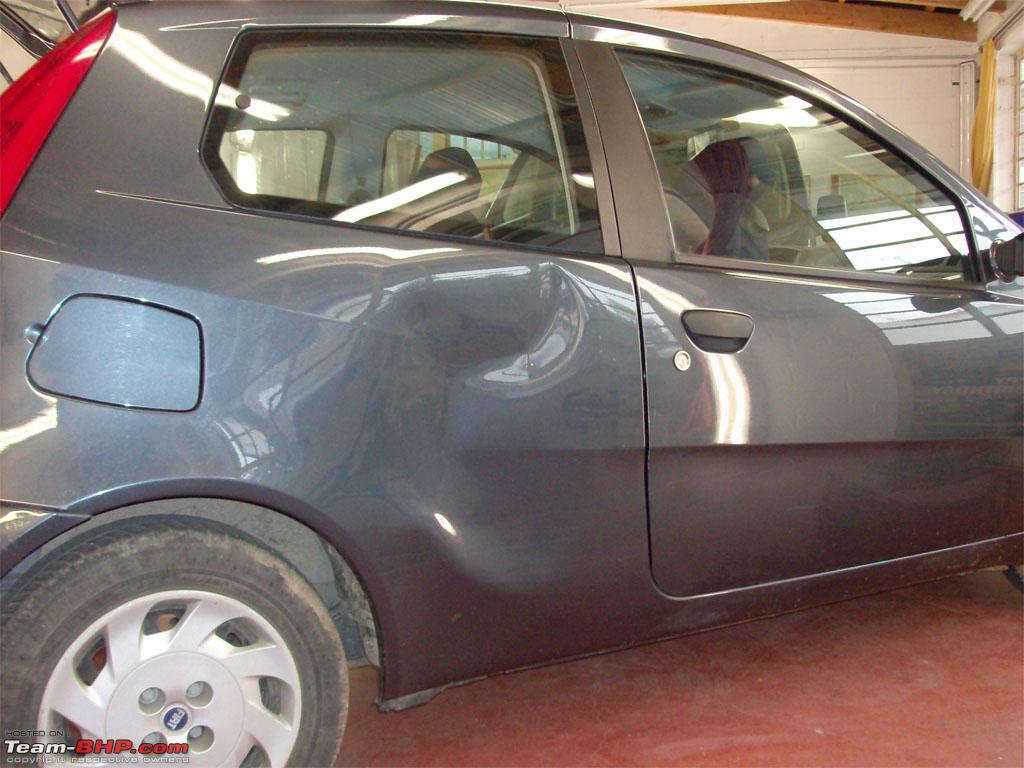quaterpanel-dent: (1, 250, 629, 559)
